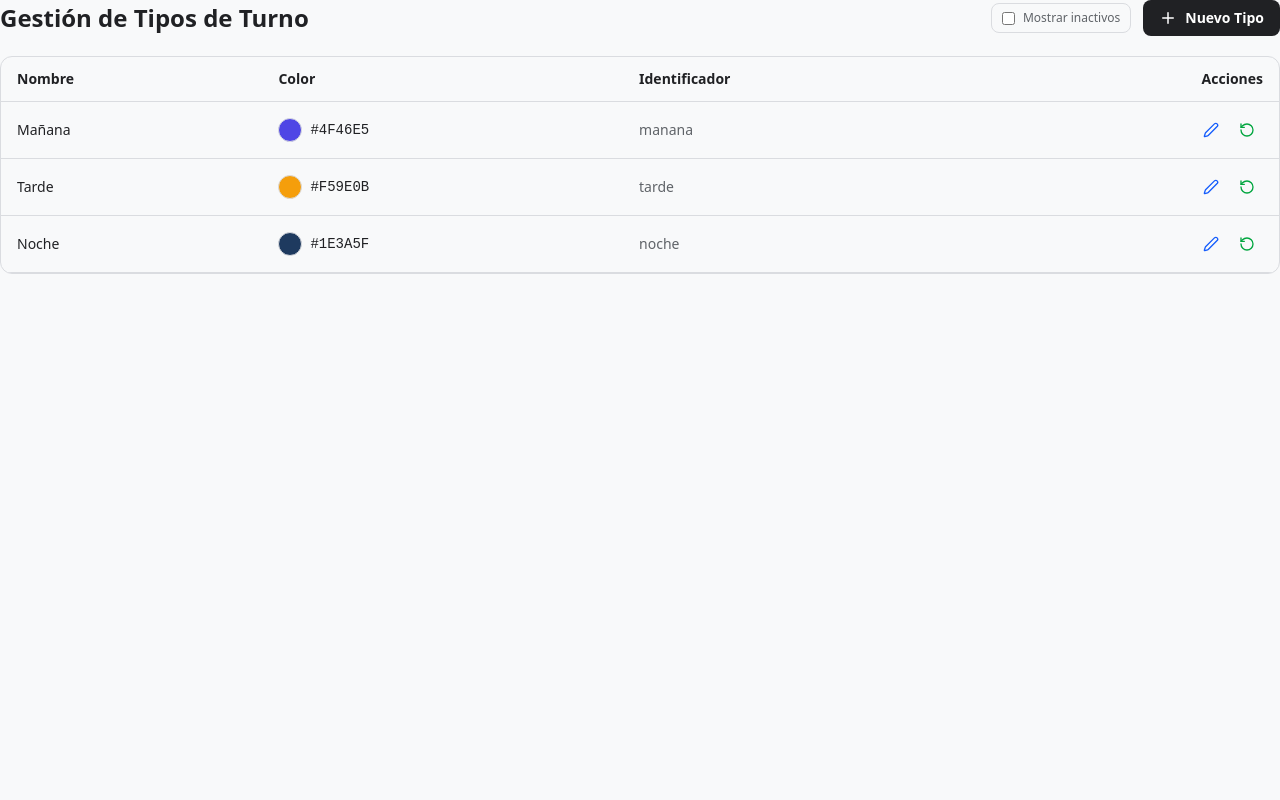
Test: ScheduleTypesPage › abre modal de edicion al hacer click en editar
This screenshot has width=1280, height=800.
Click the button named "Editar" in the row of "Mañana" at (1211, 130), box [1195,114,1227,146]
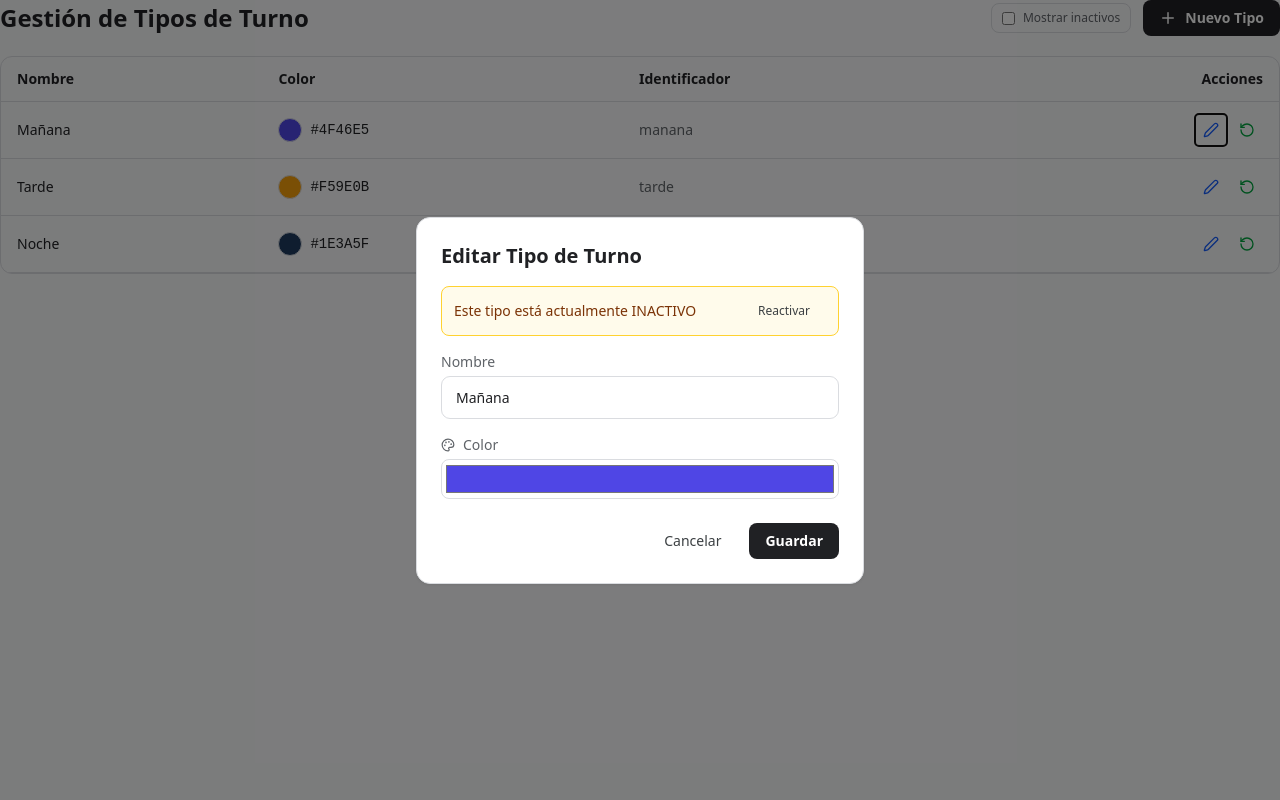
expect the heading "Editar Tipo de Turno" is shown: met, box [441,242,642,268]
